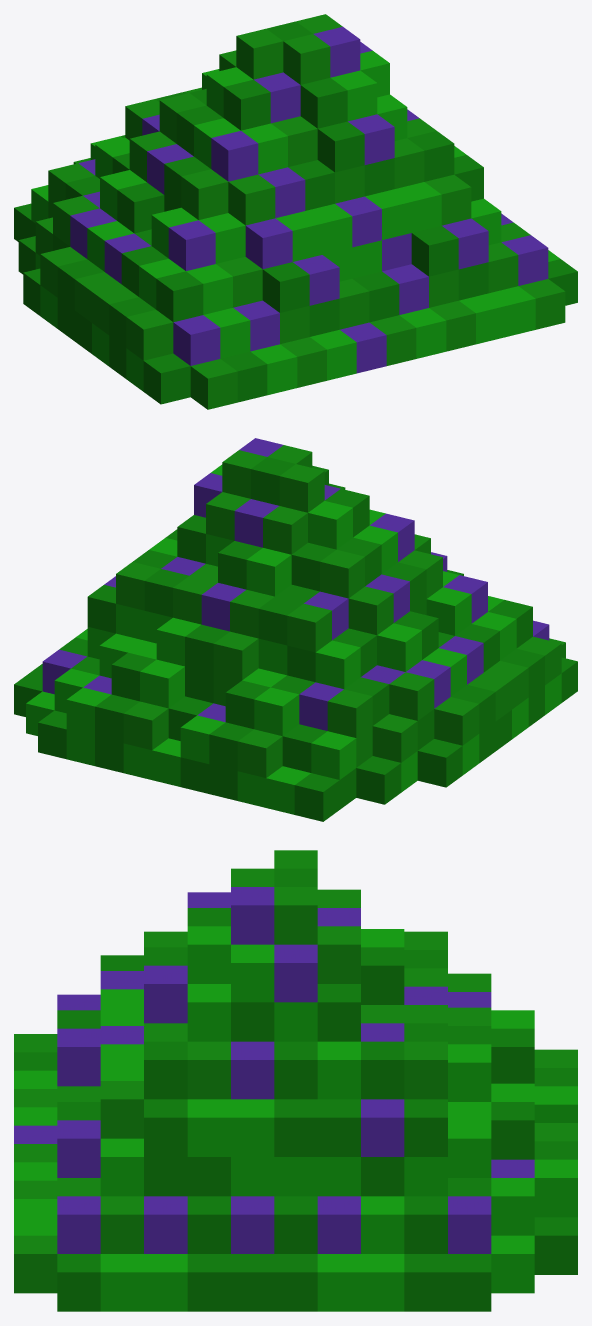
File: Plants-3.obj
The picture shows the model from 3 angles, top to bottom: view 1: azimuth 30°, elevation 25°; view 2: azimuth 150°, elevation 25°; view 3: azimuth 270°, elevation 25°; orthographic projection. The views are drawn at different scales.
Bounding box in the file's own units: 1.4 × 0.8 × 1.3.
Materials: 1 (1 with a texture image).
